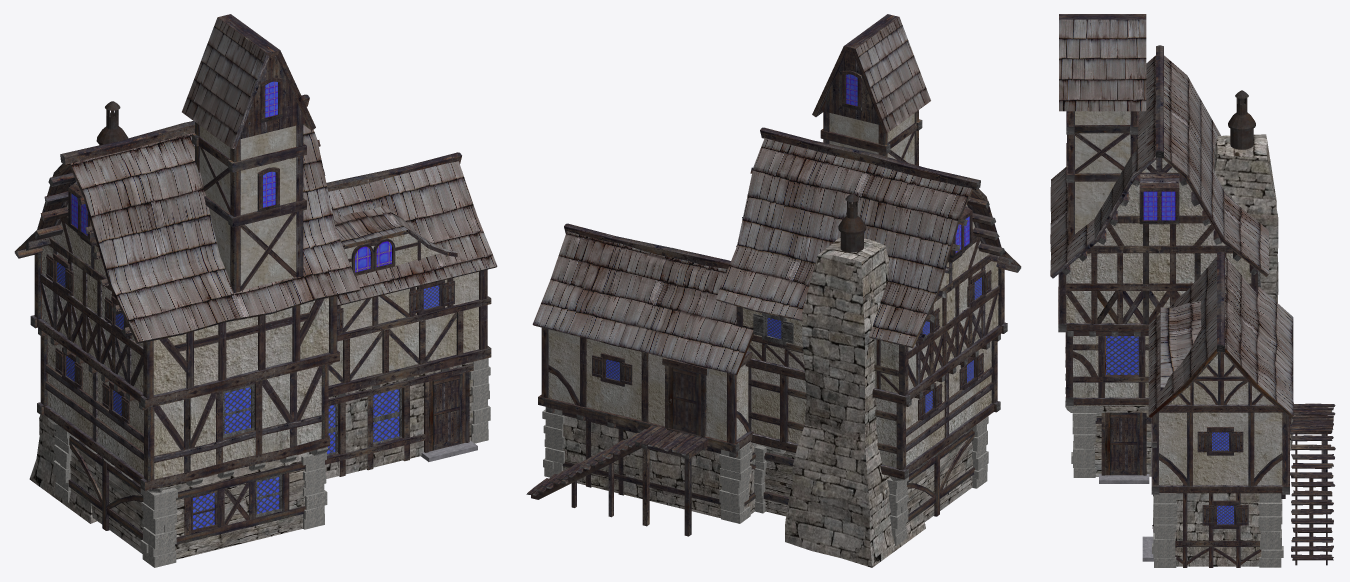
File: medieval_house_03.glb
3 views of the same model, side by side, from view 1: azimuth 30°, elevation 25°; view 2: azimuth 150°, elevation 25°; view 3: azimuth 270°, elevation 25° (orthographic). The views are drawn at different scales.
Parts seen in each view (by area): view 1: medieval_house_03; view 2: medieval_house_03; view 3: medieval_house_03.
Boxes of the visible parts, box(x1,y1,x2,y2) form: medieval_house_03: box(14, 14, 497, 567); medieval_house_03: box(526, 14, 1021, 567); medieval_house_03: box(1050, 14, 1335, 567).
Size of the model in its own units: 13.17 by 14.65 by 8.53.
Materials: 12 (12 with a texture image).
